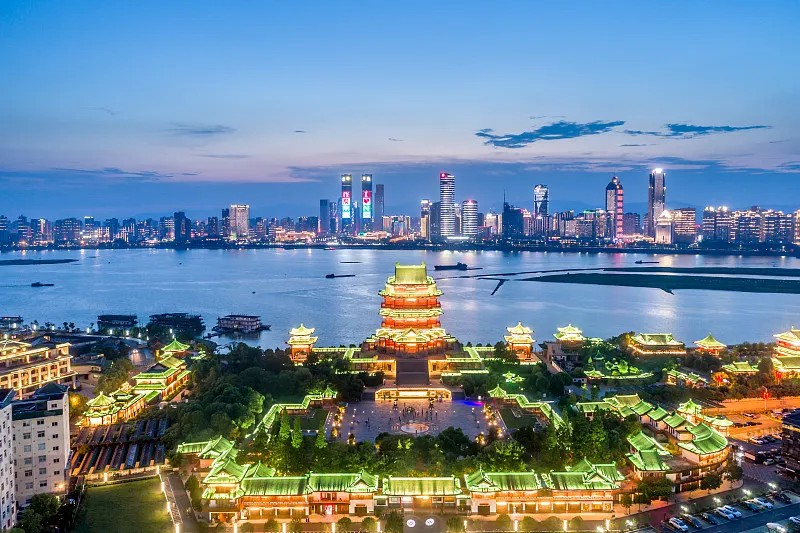Teng: (363, 263, 458, 353)
